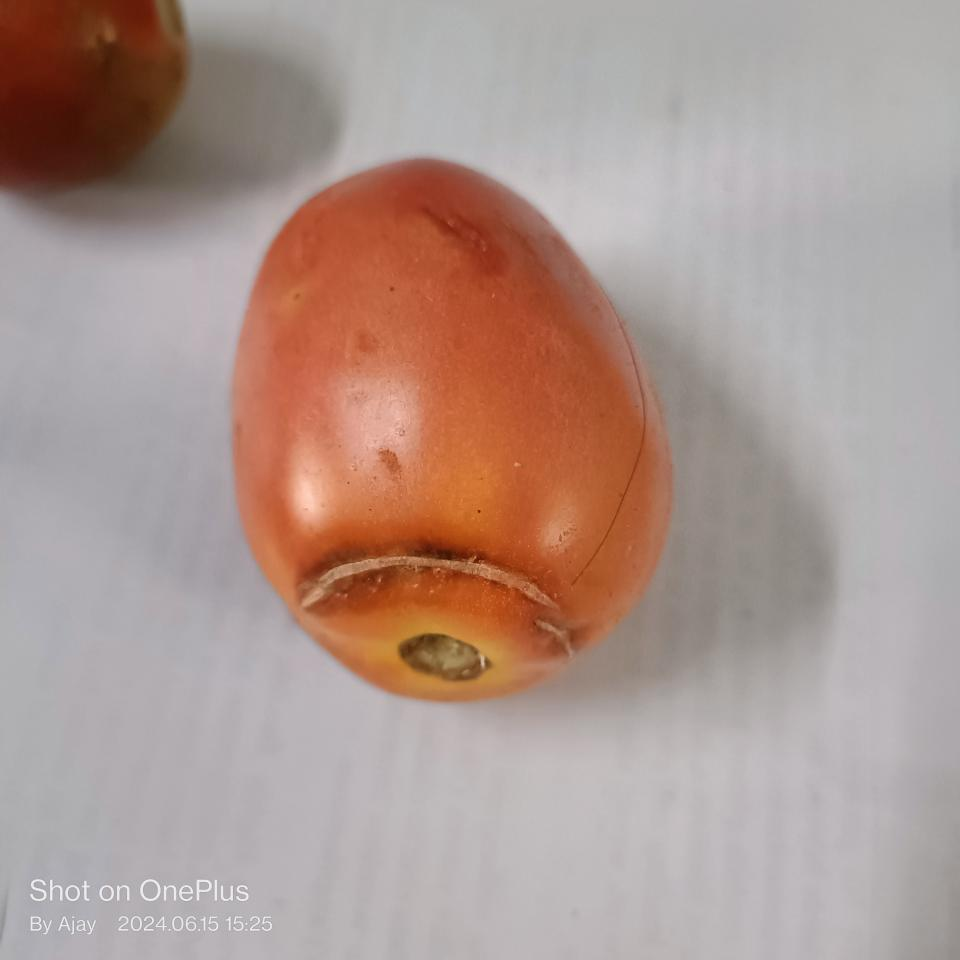Cracking: (289, 533, 573, 627)
